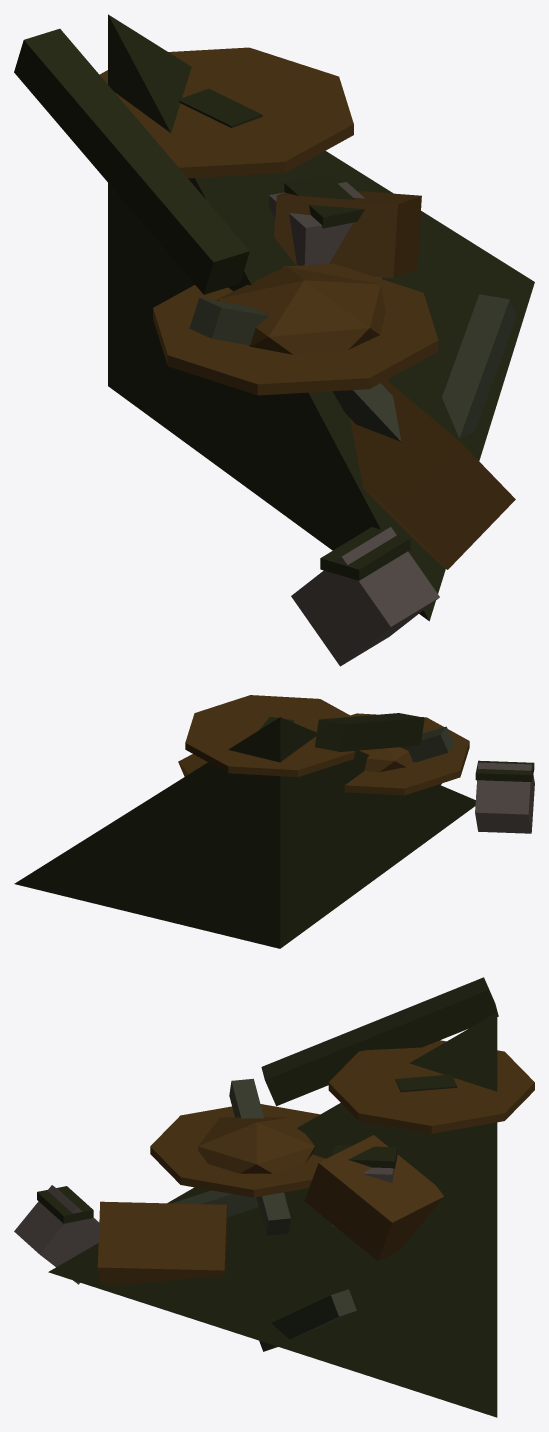
File: SM_PilaZombi_RemateDer_Altura1_s2_LOD0.fbx
The picture shows the model from 3 angles, top to bottom: view 1: azimuth 30°, elevation 25°; view 2: azimuth 150°, elevation 25°; view 3: azimuth 270°, elevation 25°; orthographic projection. The views are drawn at different scales.
Parts seen in each view (by area): view 1: SM_pila_zombis_v10_LOD0; view 2: SM_pila_zombis_v10_LOD0; view 3: SM_pila_zombis_v10_LOD0.
Boxes of the visible parts, x1,y1,x2,y2 form: SM_pila_zombis_v10_LOD0: (14,14,534,666); SM_pila_zombis_v10_LOD0: (14,695,534,948); SM_pila_zombis_v10_LOD0: (14,977,534,1417).
Size of the model in its own units: 1.52 by 1.09 by 1.82.
